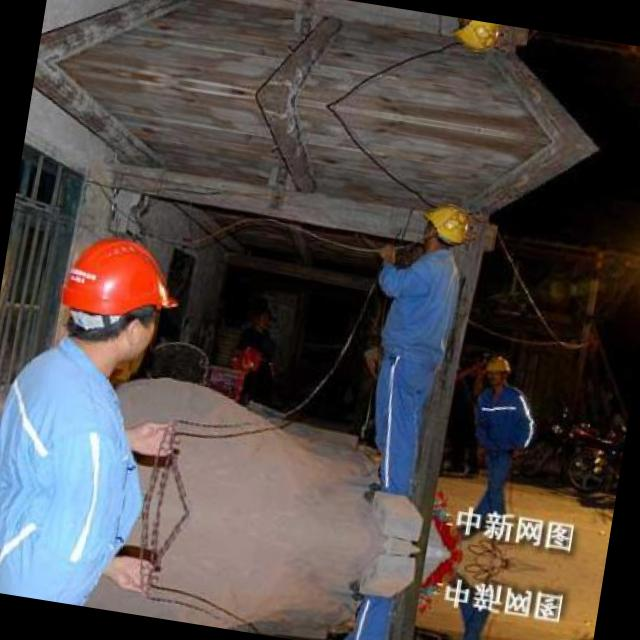helmet: (42, 220, 190, 382), (412, 198, 472, 256), (444, 16, 502, 56), (480, 350, 514, 390)
